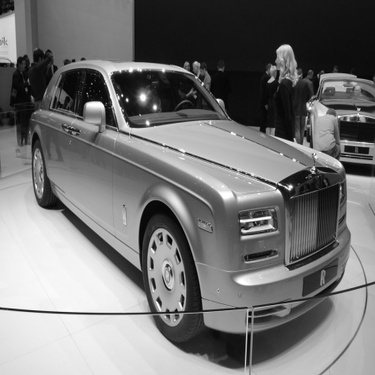car: (19, 54, 355, 351), (297, 70, 373, 168)
